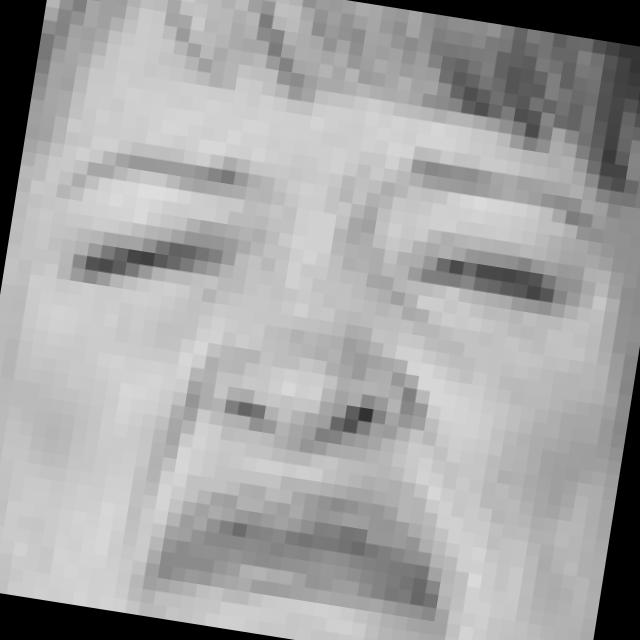disgust: (0, 95, 619, 640)
